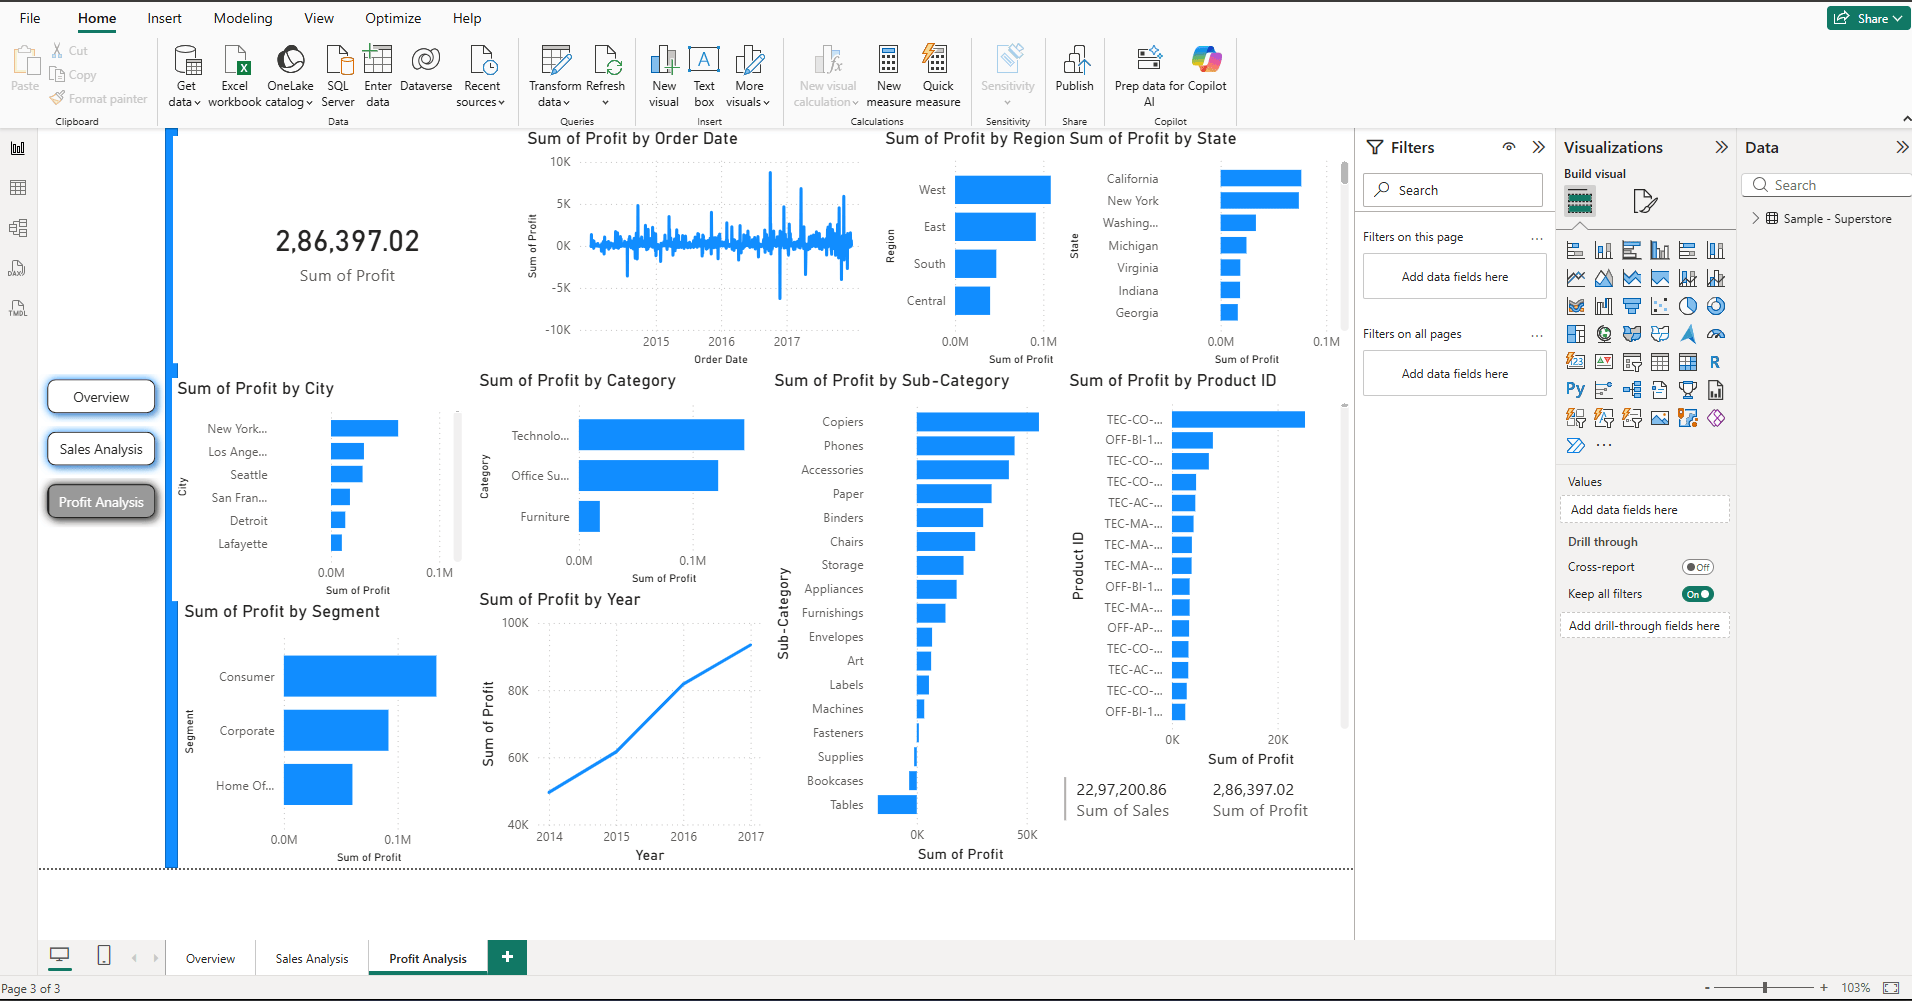

What the dashboard file says about the page in this screenshot:
{"tool":"powerbi","page":{"name":"Profit Analysis","canvas":[1280,720],"ordinal":2},"visuals":[{"type":"pageNavigator","box":[0,235.4,123.5,155.6],"z":0},{"type":"shape","box":[123.5,0,12.6,719.8],"z":1000},{"type":"qnaVisual","box":[130.3,0,339.5,235.4],"z":2000},{"type":"lineChart","fields":{"Category":["Sample - Superstore.Order Date"],"Y":["Sum(Sample - Superstore.Profit)"]},"box":[470.8,0,338.5,235.4],"z":3000},{"type":"barChart","fields":{"Category":["Sample - Superstore.Region"],"Y":["Sum(Sample - Superstore.Profit)"]},"box":[819,0,220.8,235.4],"z":4000},{"type":"barChart","fields":{"Category":["Sample - Superstore.State"],"Y":["Sum(Sample - Superstore.Profit)"]},"box":[1039.8,0,240.2,235.4],"z":5000},{"type":"barChart","fields":{"Category":["Sample - Superstore.City"],"Y":["Sum(Sample - Superstore.Profit)"]},"box":[137.1,235.4,286.9,213],"z":6000},{"type":"barChart","fields":{"Category":["Sample - Superstore.Category"],"Y":["Sum(Sample - Superstore.Profit)"]},"box":[424.1,235.4,286.9,213],"z":7000},{"type":"barChart","fields":{"Category":["Sample - Superstore.Sub-Category"],"Y":["Sum(Sample - Superstore.Profit)"]},"box":[711,235.4,286.9,483.4],"z":8000},{"type":"barChart","fields":{"Category":["Sample - Superstore.Product ID"],"Y":["Sum(Sample - Superstore.Profit)"]},"box":[1020.3,235.4,259.7,271.4],"z":9000},{"type":"barChart","fields":{"Category":["Sample - Superstore.Segment"],"Y":["Sum(Sample - Superstore.Profit)"]},"box":[137,448,287,272],"z":10000},{"type":"qnaVisual","box":[993.1,484.4,286.9,235.4],"z":11000},{"type":"lineChart","fields":{"Category":["Sample - Superstore.Order Date.Variation.Date Hierarchy.Year"],"Y":["Sum(Sample - Superstore.Profit)"]},"box":[424,448,287,272],"z":12000}]}

Visuals, with their boxes on the page's 1280x720 design canvas (x1, y1, x2, y2). These are canvas units, not pixel positions in the 1912x1001 screenshot, which may show the page scaled, cropped or inside an application window:
pageNavigator: locate(0, 235, 124, 391)
shape: locate(124, 0, 136, 720)
qnaVisual: locate(130, 0, 470, 235)
lineChart - Sample - Superstore.Order Date x Sum(Sample - Superstore.Profit): locate(471, 0, 809, 235)
barChart - Sample - Superstore.Region x Sum(Sample - Superstore.Profit): locate(819, 0, 1040, 235)
barChart - Sample - Superstore.State x Sum(Sample - Superstore.Profit): locate(1040, 0, 1280, 235)
barChart - Sample - Superstore.City x Sum(Sample - Superstore.Profit): locate(137, 235, 424, 448)
barChart - Sample - Superstore.Category x Sum(Sample - Superstore.Profit): locate(424, 235, 711, 448)
barChart - Sample - Superstore.Sub-Category x Sum(Sample - Superstore.Profit): locate(711, 235, 998, 719)
barChart - Sample - Superstore.Product ID x Sum(Sample - Superstore.Profit): locate(1020, 235, 1280, 507)
barChart - Sample - Superstore.Segment x Sum(Sample - Superstore.Profit): locate(137, 448, 424, 720)
qnaVisual: locate(993, 484, 1280, 720)
lineChart - Sample - Superstore.Order Date.Variation.Date Hierarchy.Year x Sum(Sample - Superstore.Profit): locate(424, 448, 711, 720)
